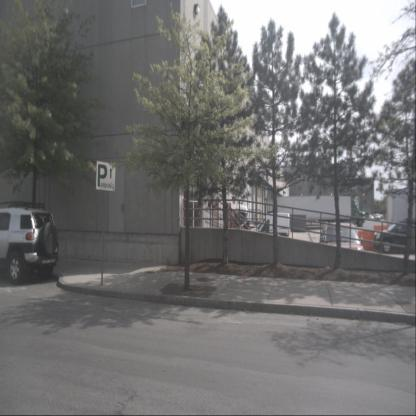barrier: (358, 230, 388, 251), (373, 225, 396, 243)
